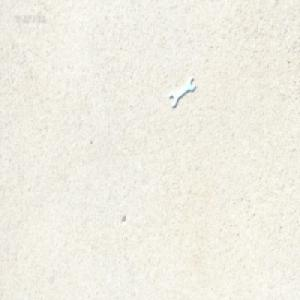Wrench: (170, 77, 195, 107)
